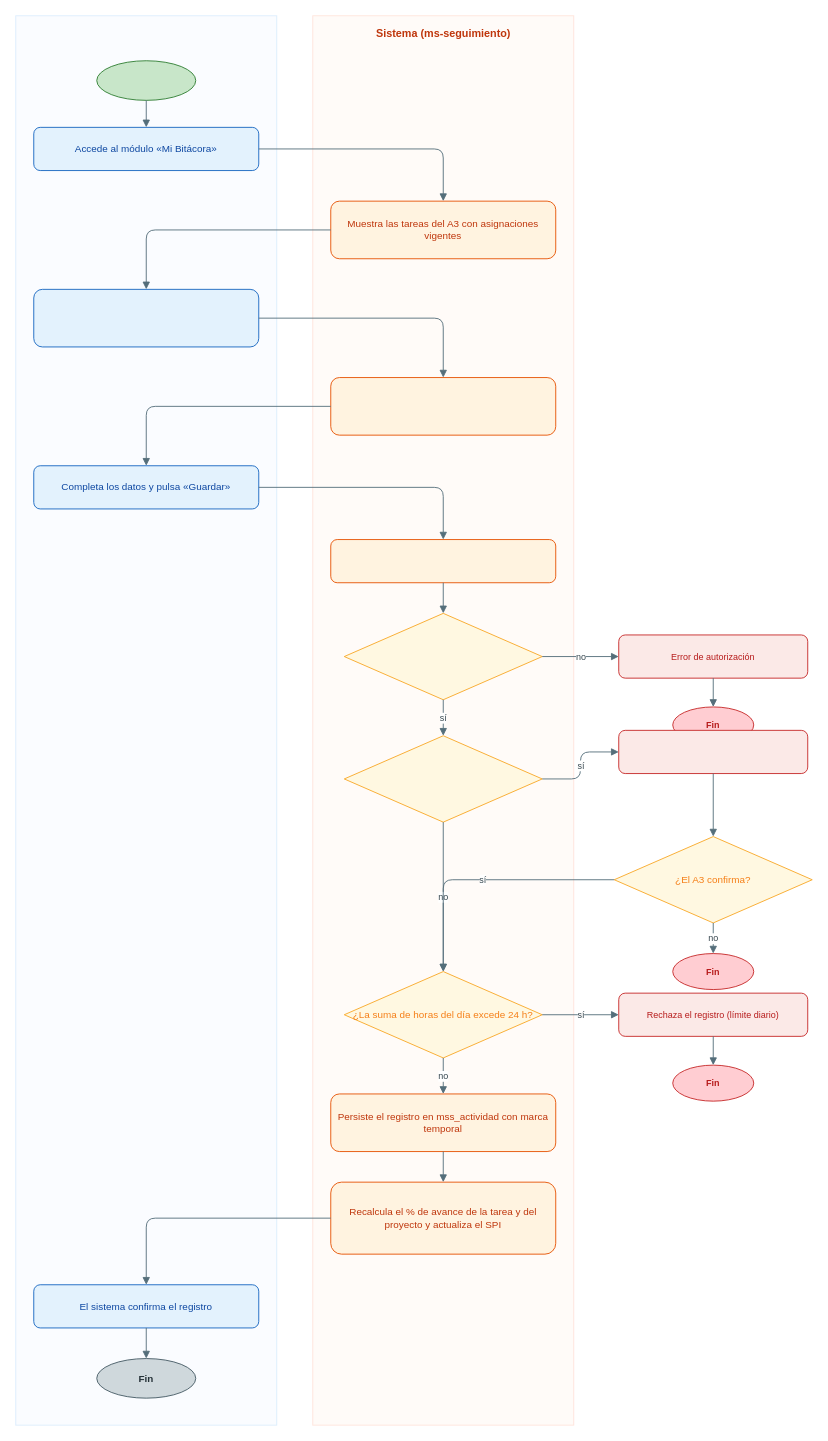
Image size: 828x1441. Some labels were removed from this diagram. Here are the shapes that lost their labels. From the top down, the box of each, then its label:
(96, 60, 196, 100): Inicio
(33, 288, 259, 347): Selecciona la tarea sobre la que registra dedicación
(330, 377, 556, 435): Muestra el formulario (fecha, horas, comentario, % de avance percibido)
(330, 539, 556, 583): Recibe POST /api/actividades
(343, 612, 542, 700): ¿La tarea está asignada al A3?
(15, 15, 277, 1425): A3 · Recurso Técnico
(618, 729, 808, 774): Advertencia de fecha futura
(343, 735, 542, 822): ¿La fecha es futura?
